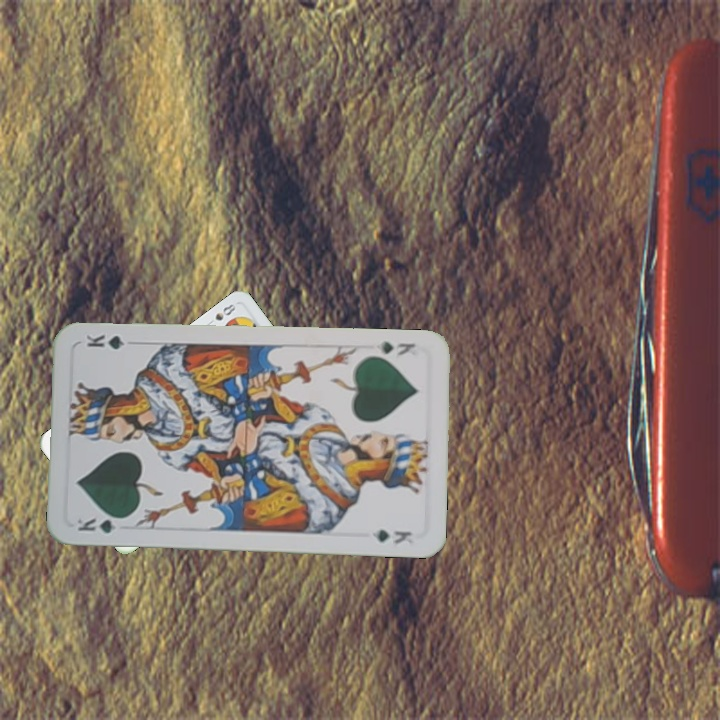GK: (71, 513, 130, 536), (376, 337, 418, 361)
S8: (202, 300, 238, 329)
